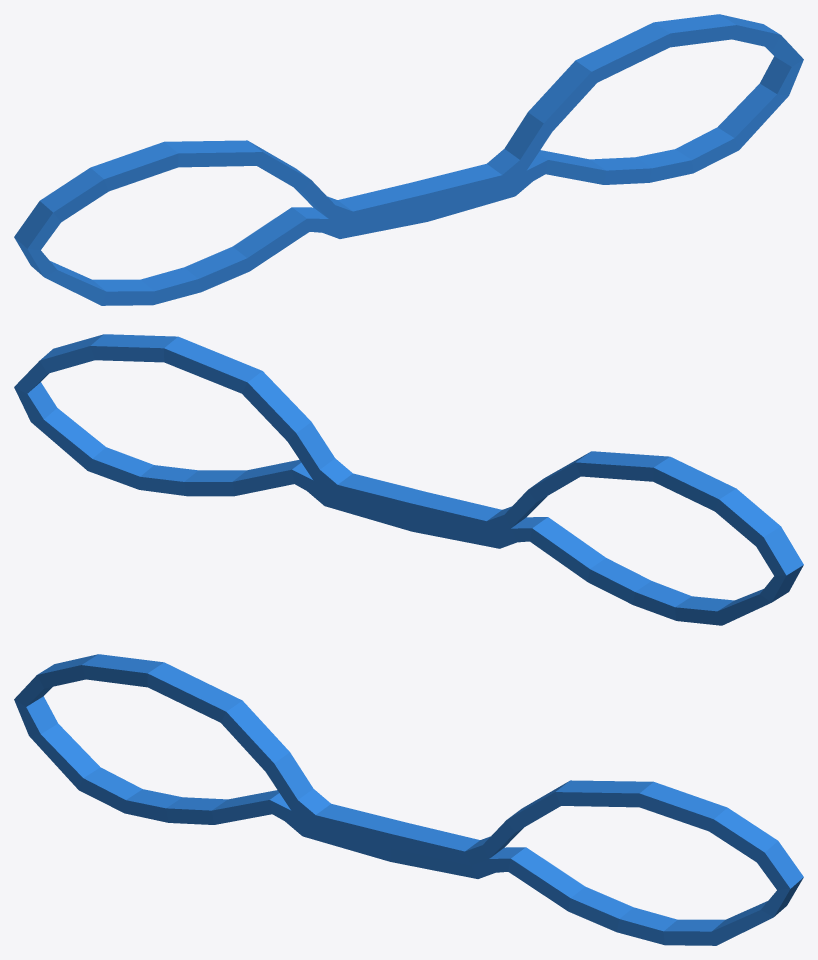
The model's file is glasses.glb.
3 renders of one model, top to bottom at view 1: azimuth 30°, elevation 25°; view 2: azimuth 150°, elevation 25°; view 3: azimuth 330°, elevation 25°, orthographic.
Parts seen in each view (by area): view 1: Cube; view 2: Cube; view 3: Cube.
Part boxes in pixels (x1,y1,x2,y2): Cube: (14,14,803,305); Cube: (14,334,803,625); Cube: (14,654,803,945).
Size of the model in its own units: 0.7462 by 0.1347 by 0.0458.
